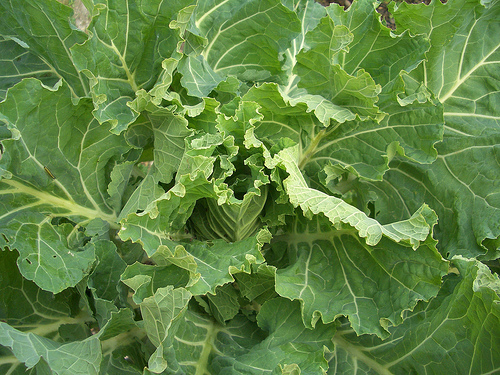cabbage: (3, 0, 499, 373)
